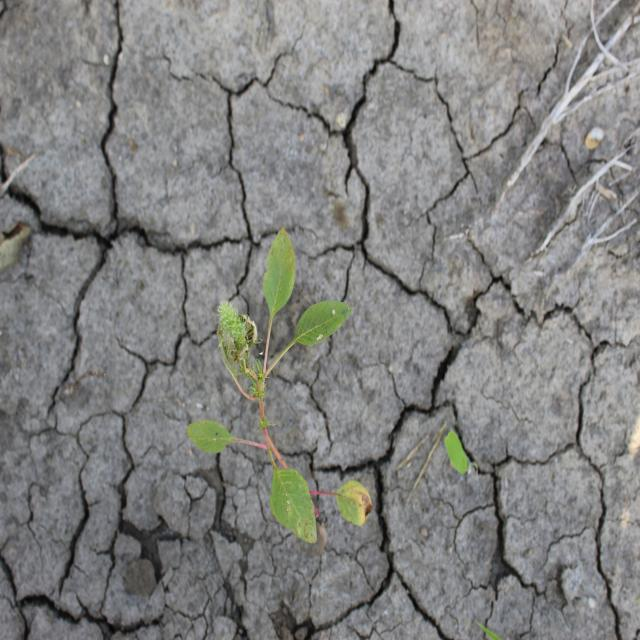PalmerAmaranth: (186, 224, 375, 545)
